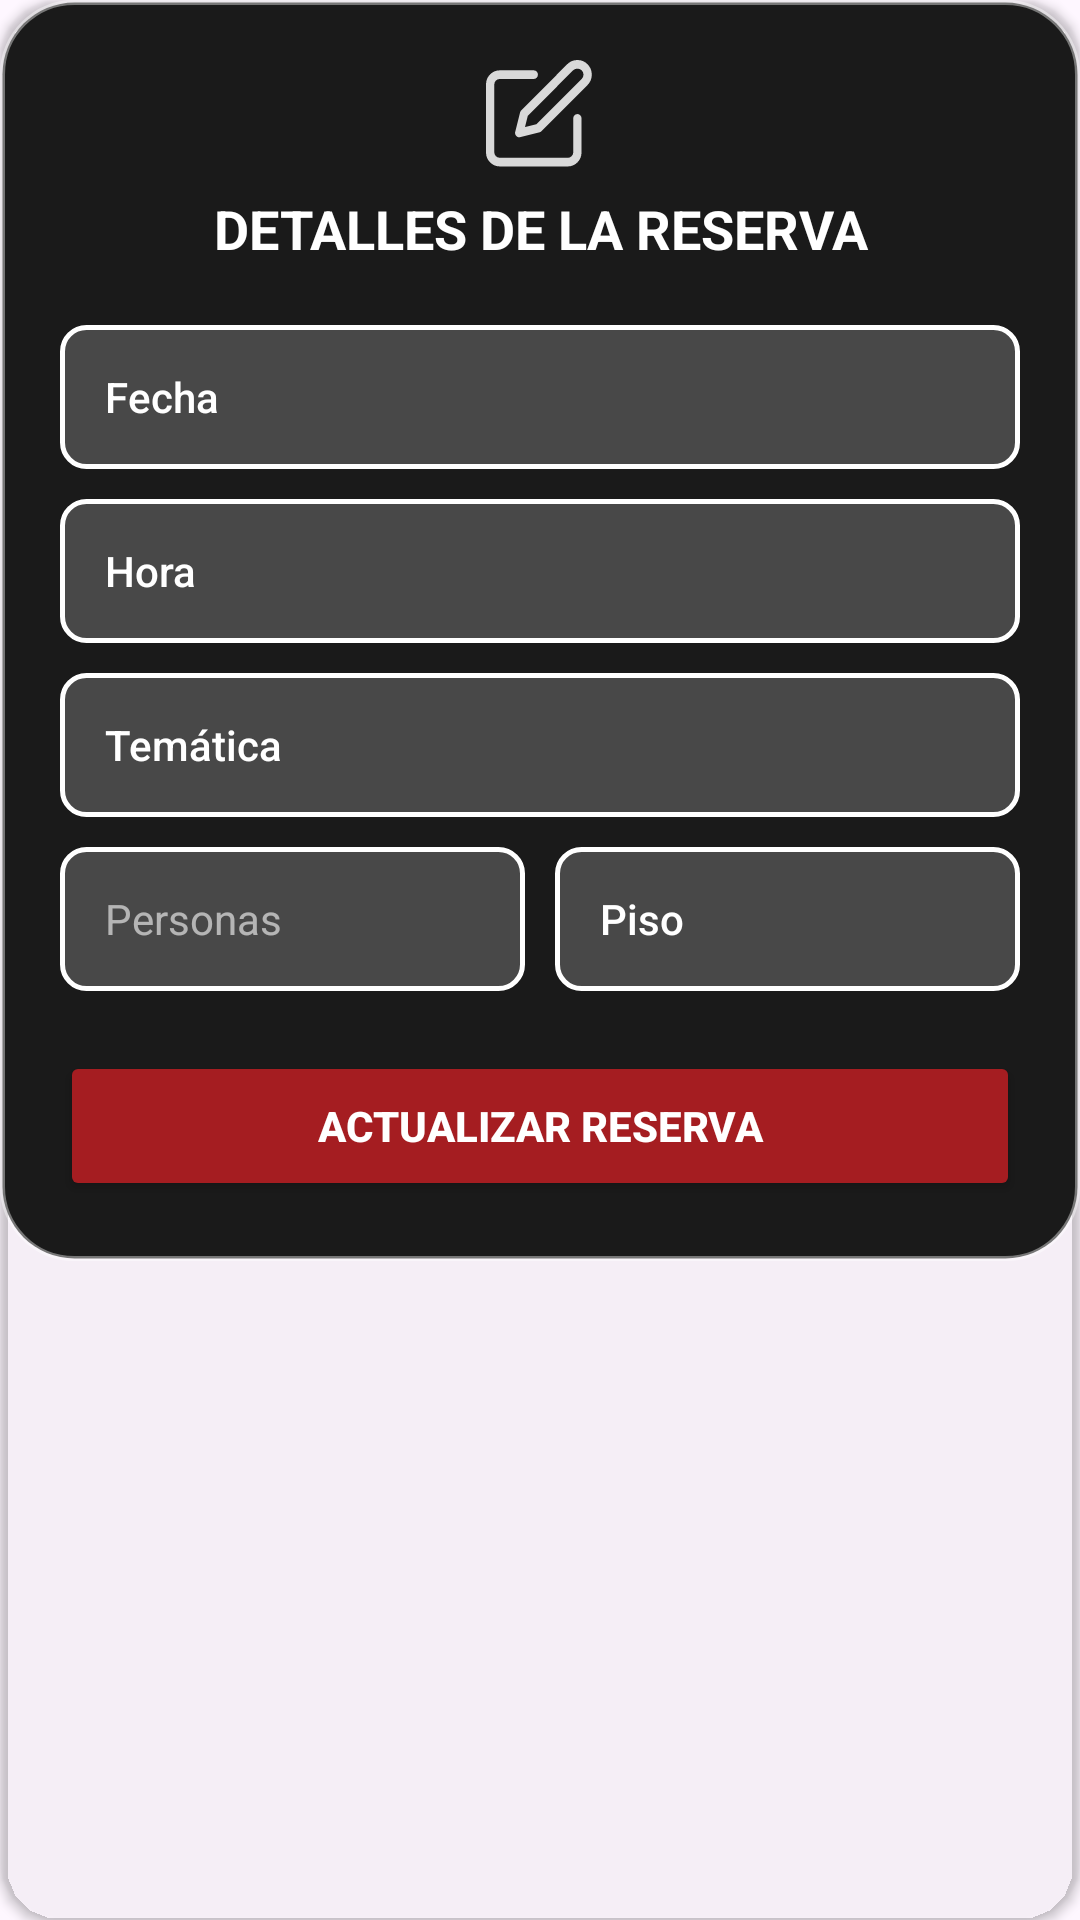

Screen size 1080 x 1920. Icon name, then its center in pixels as (x=x, y=y):
Editar: (x=539, y=113)
